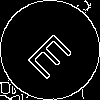E: (25, 25, 81, 81)
